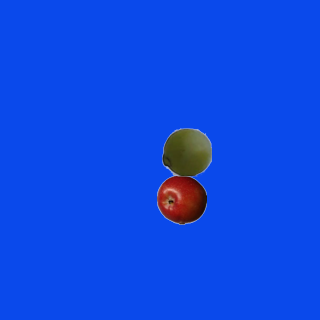Apple Braeburn: (156, 174, 206, 224)
Grape White 4: (161, 126, 211, 176)
